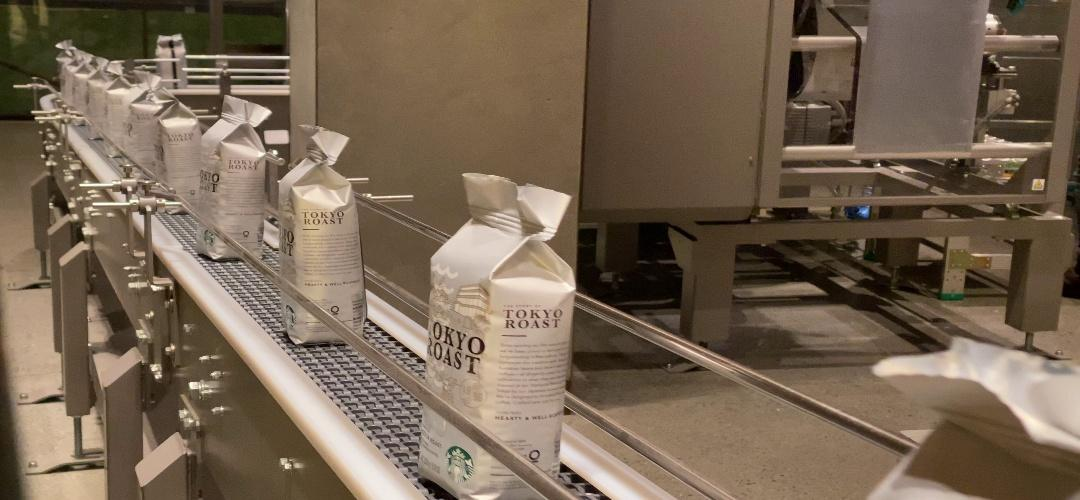conveyor: (430, 248, 567, 408), (277, 180, 364, 272), (198, 139, 265, 209)
